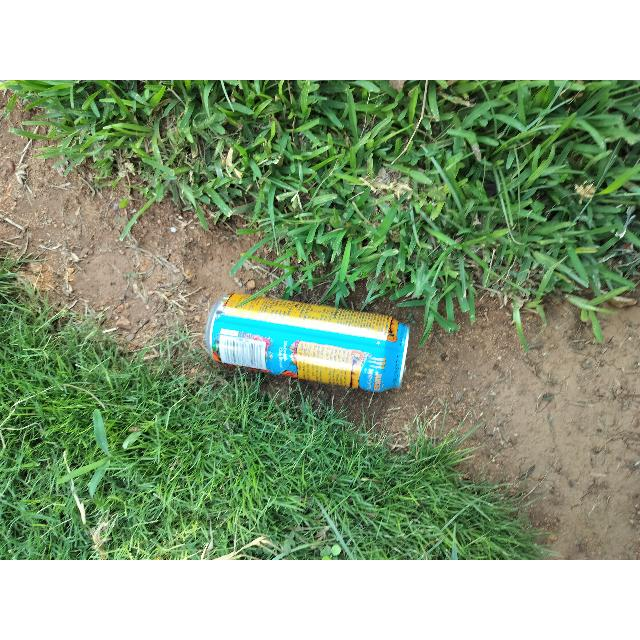Monster Mango Loco: (200, 289, 416, 395)
